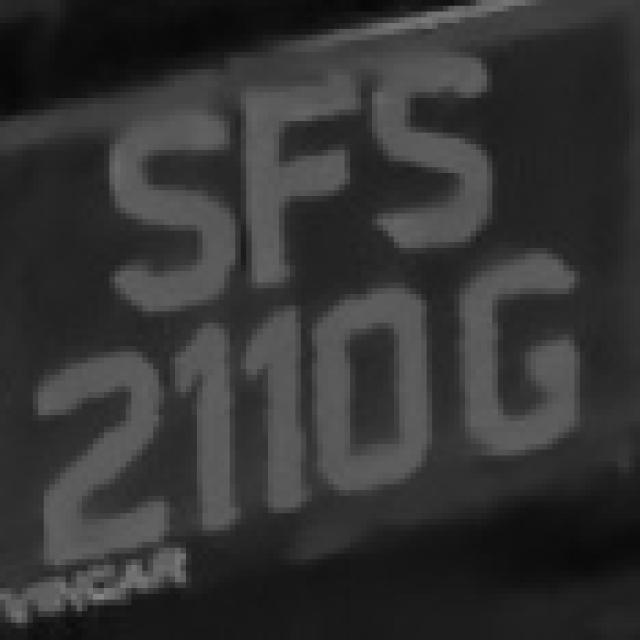0: (317, 265, 432, 502)
1: (159, 294, 257, 548), (257, 271, 312, 530)
2: (11, 346, 180, 582)
F: (224, 40, 372, 288)
G: (459, 248, 591, 467)
S: (356, 35, 508, 271), (93, 87, 235, 317)
